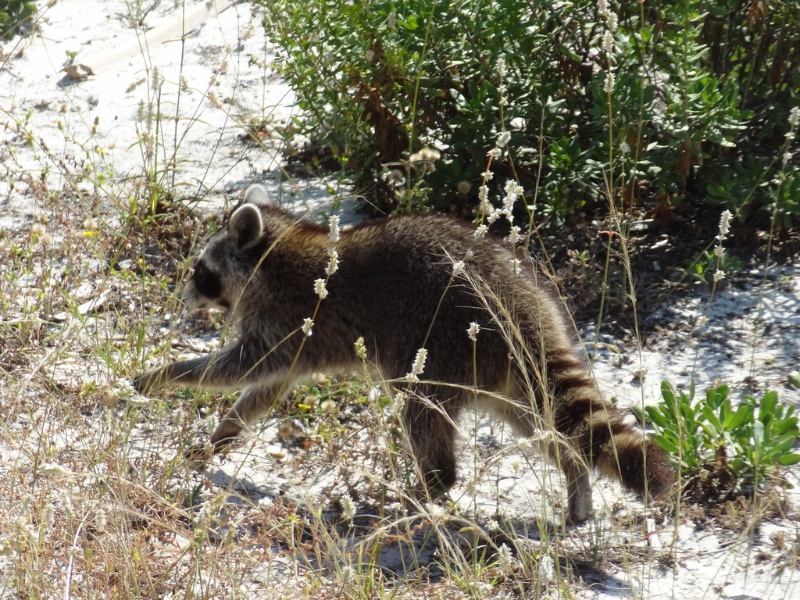raccoon: (134, 187, 674, 525)
